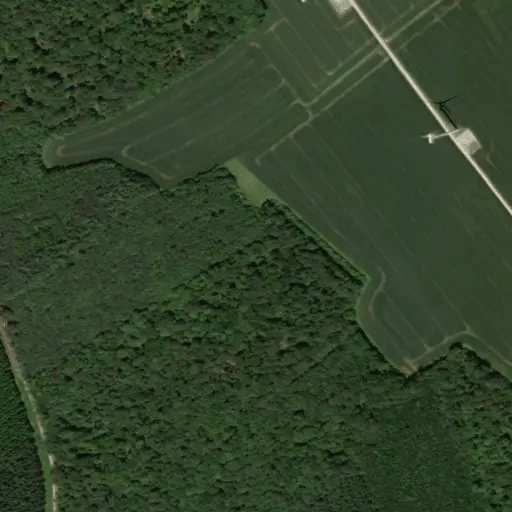wt: (401, 85, 469, 157)
